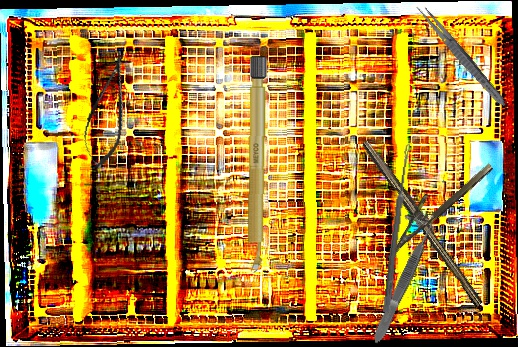Dressing Forceps: (412, 1, 511, 110)
Micro Scissor: (75, 48, 140, 174)
Needle Holder: (372, 149, 495, 261)
Scalpel Handle: (358, 137, 489, 308), (245, 53, 267, 277)
Surgical Spoon: (382, 143, 412, 313)
Tissue Forceps: (369, 221, 439, 346)
